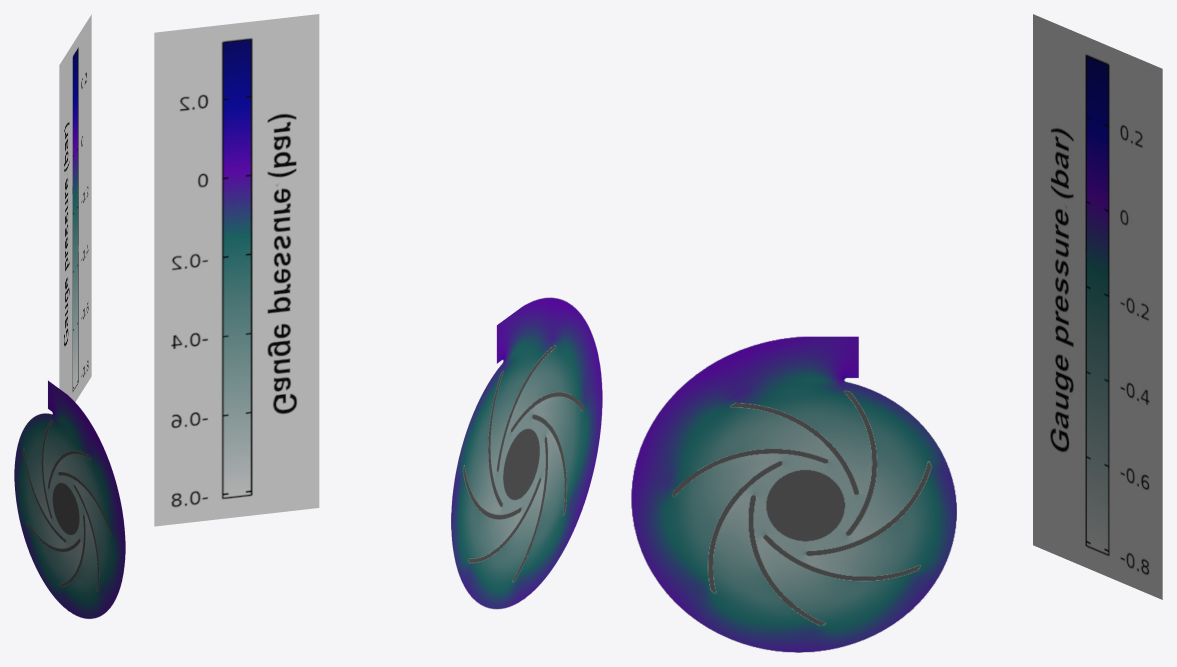
The model's file is P2Plong03.glb.
The picture shows the model from 3 angles, left to right: view 1: azimuth 30°, elevation 25°; view 2: azimuth 150°, elevation 25°; view 3: azimuth 270°, elevation 25°; orthographic projection. The views are drawn at different scales.
Parts seen in each view (by area): view 1: pressure map P2 v1, Pscale.001; view 2: Pscale.001, pressure map P2 v1; view 3: pressure map P2 v1, Pscale.001.
Part boxes in pixels (bbox=[...]): pressure map P2 v1: bbox=[14, 380, 125, 618]; Pscale.001: bbox=[59, 14, 91, 401]; Pscale.001: bbox=[154, 14, 319, 526]; pressure map P2 v1: bbox=[451, 297, 602, 609]; pressure map P2 v1: bbox=[631, 336, 956, 652]; Pscale.001: bbox=[1033, 14, 1162, 599].
Size of the model in its own units: 0.1832 by 0.5583 by 0.3899.
2 materials, 2 textured.
